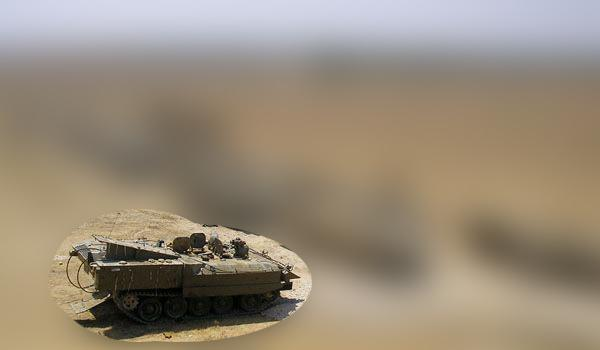armored_car: (62, 219, 300, 326)
